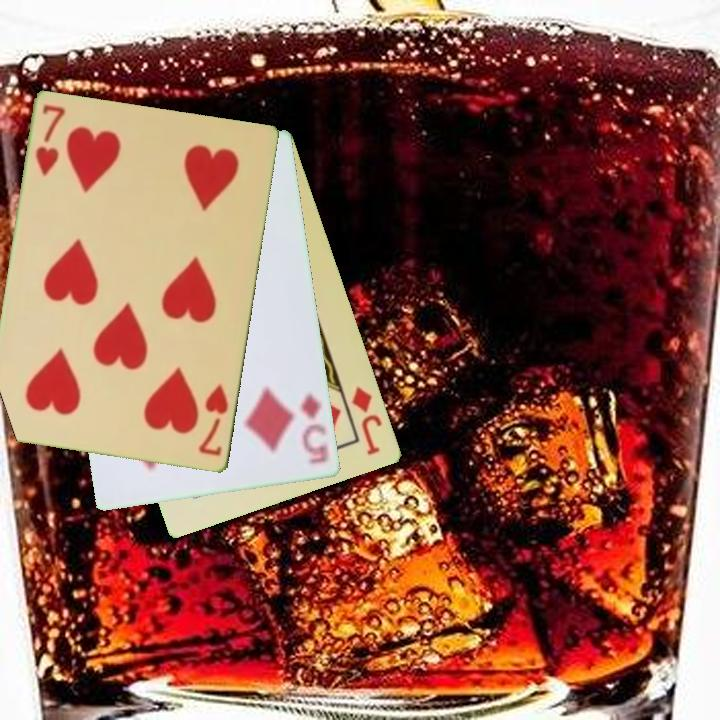5d: (297, 389, 332, 467)
7h: (195, 381, 232, 460), (32, 101, 69, 179)
Jd: (348, 383, 386, 459)
